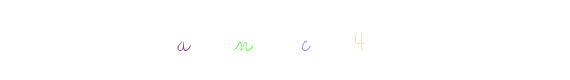4: (258, 0, 338, 80)
A: (186, 0, 266, 80)
C: (245, 0, 325, 80)
N: (203, 0, 283, 80)
